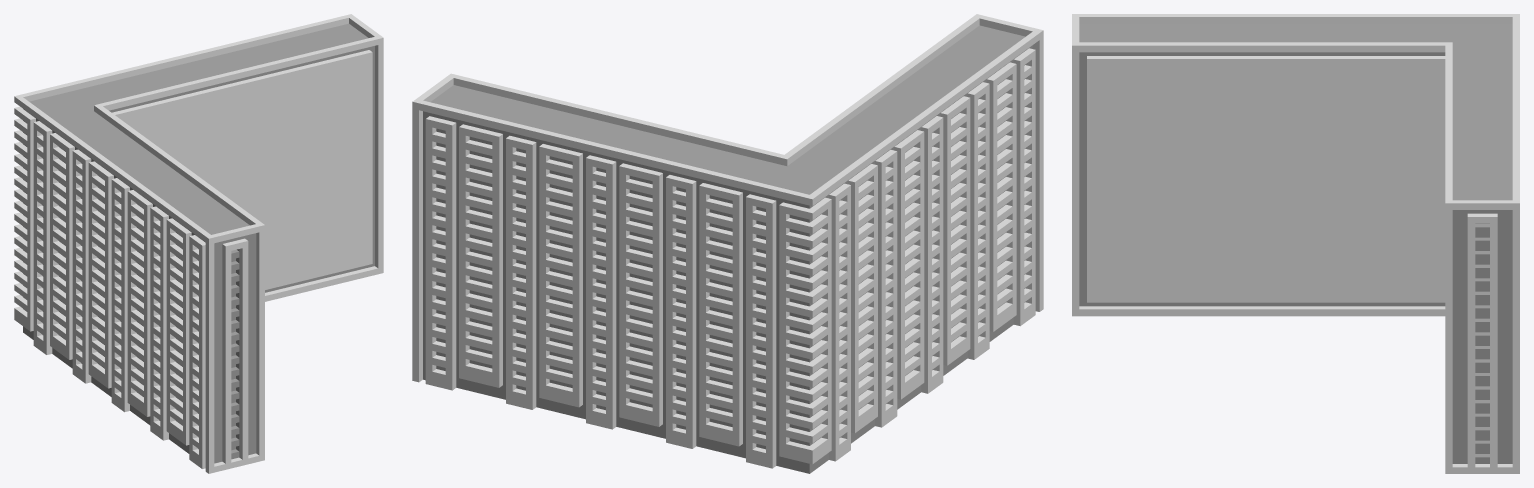
Rendered from Main Hall Corner.obj.
3 renders of one model, left to right at view 1: azimuth 30°, elevation 25°; view 2: azimuth 150°, elevation 25°; view 3: azimuth 270°, elevation 25°, orthographic. The views are drawn at different scales.
Size of the model in its own units: 60 by 40 by 60.
Materials: 1 (1 with a texture image).
